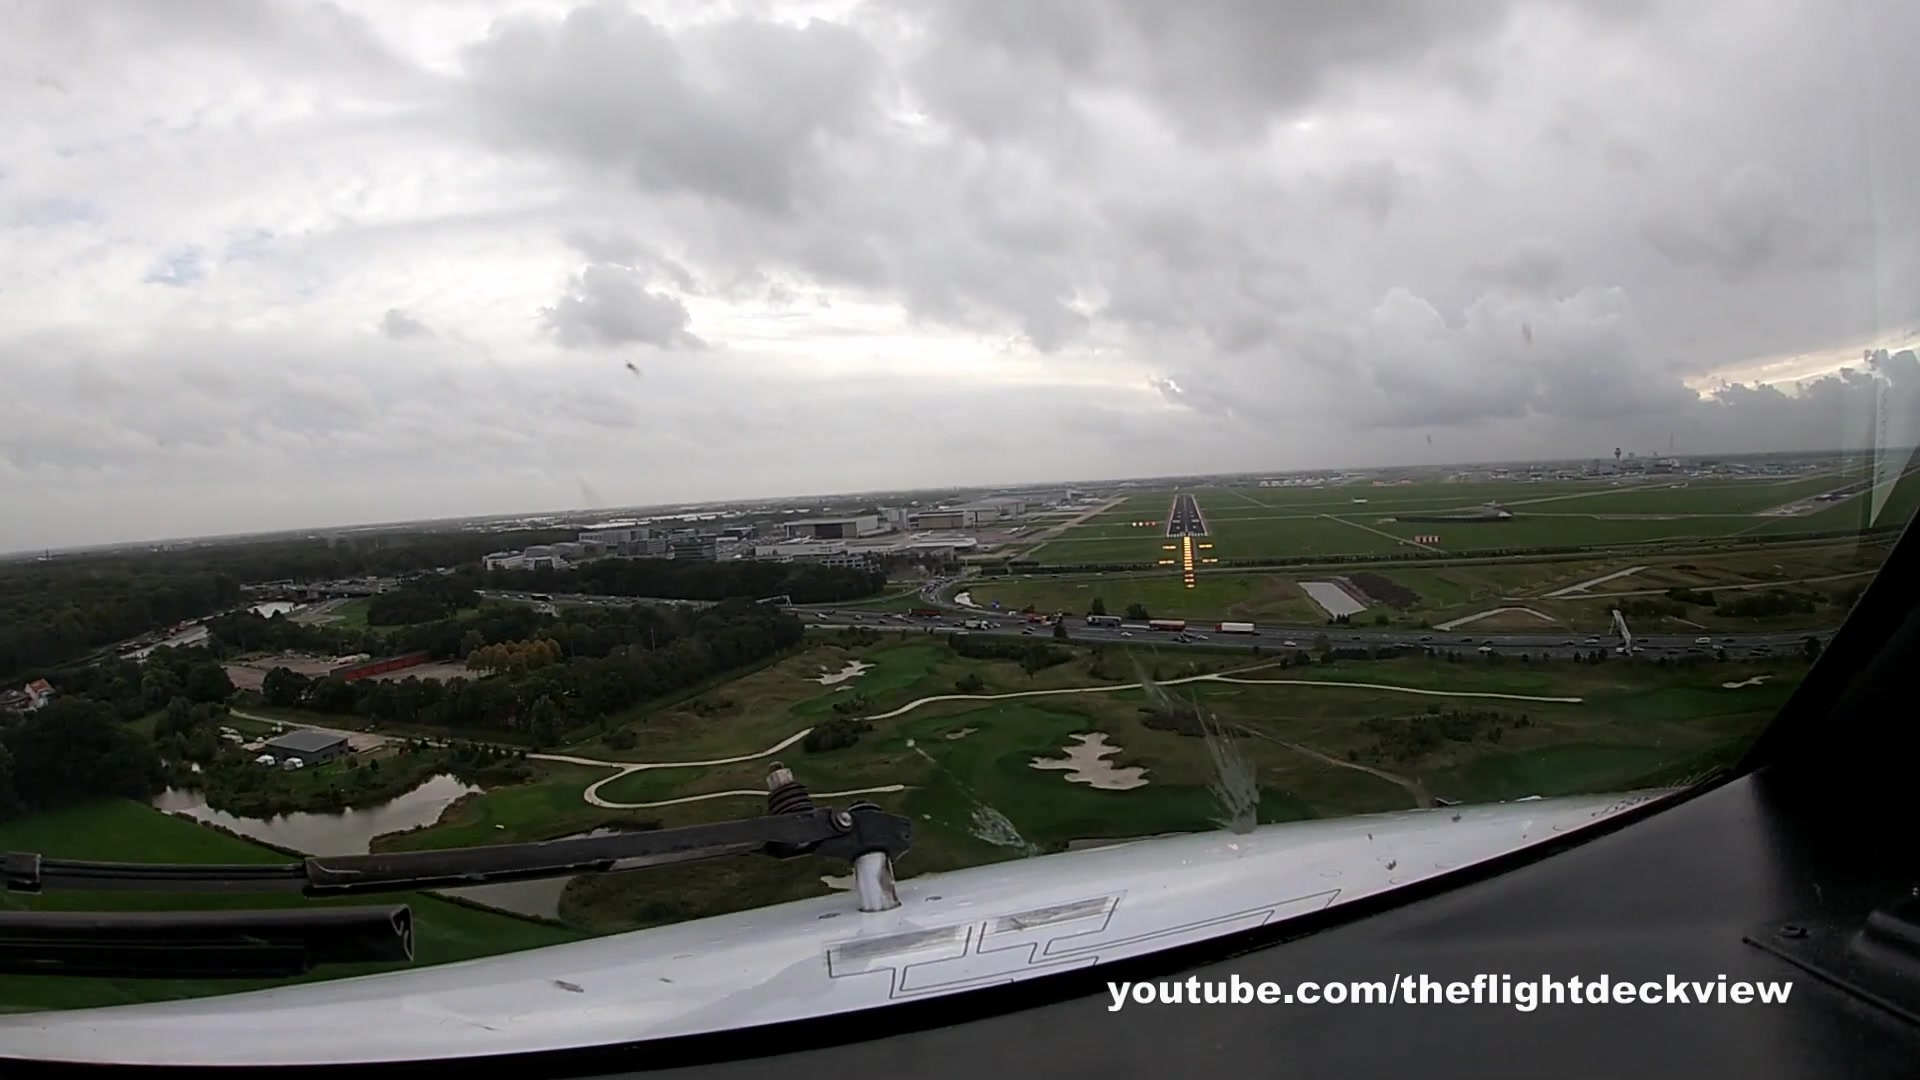entrance: (1166, 529, 1208, 537)
runway: (1163, 493, 1211, 541)
